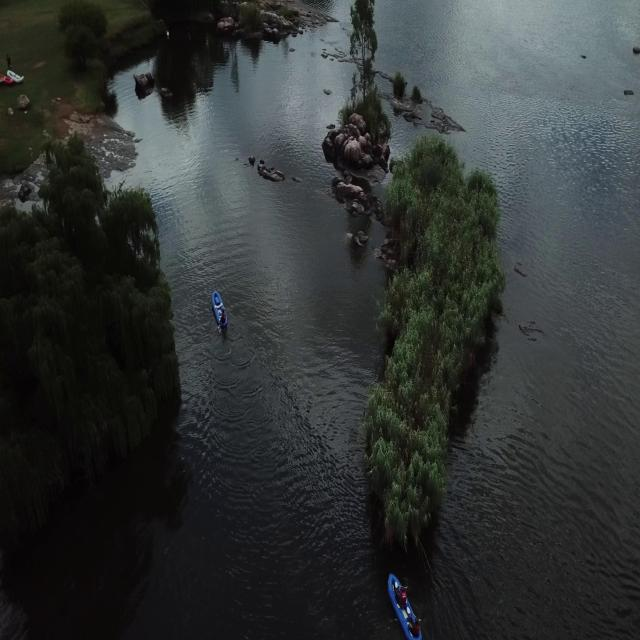kayak: (386, 567, 425, 640), (209, 288, 229, 336)
